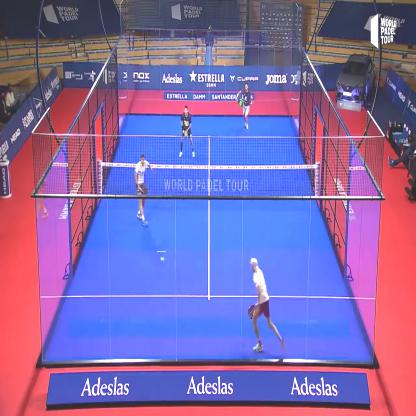ball: (157, 251, 167, 264)
